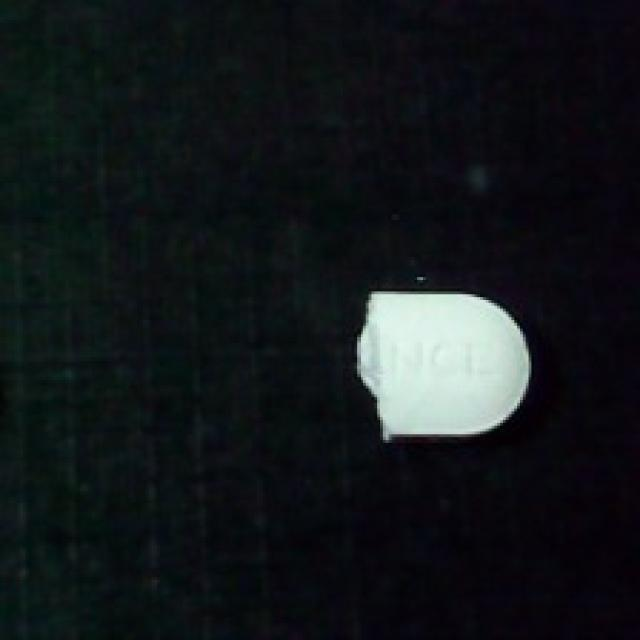defected: (351, 280, 540, 449)
